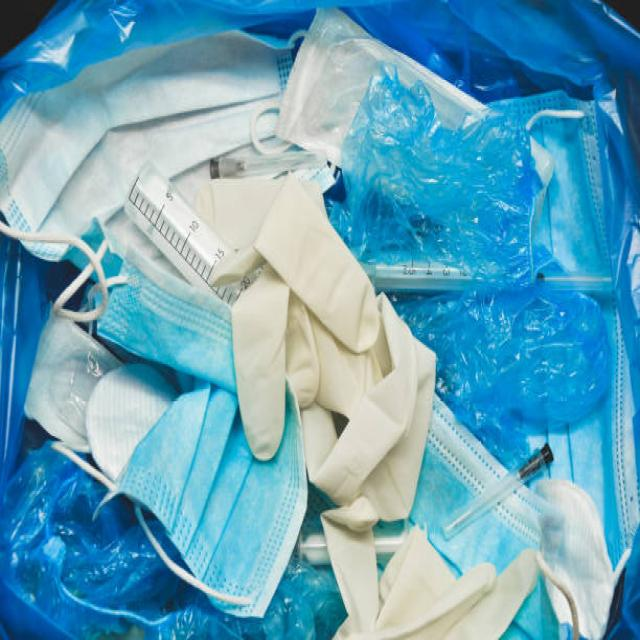plastic: (371, 127, 561, 466)
